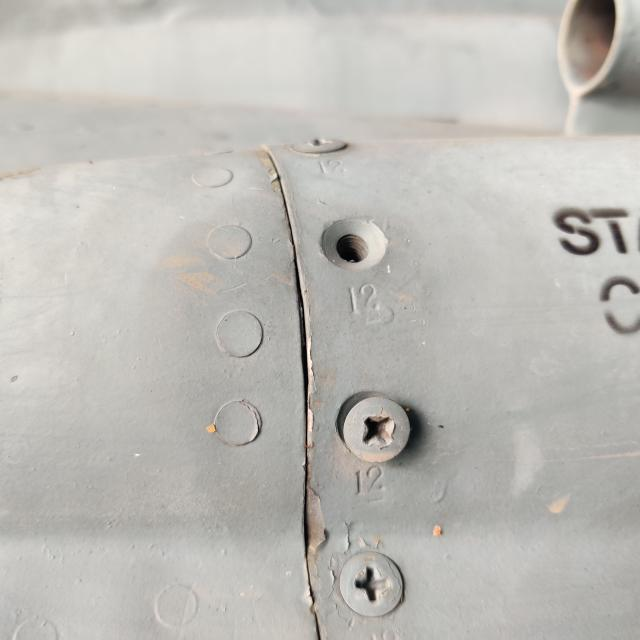missing-head: (292, 192, 410, 297)
